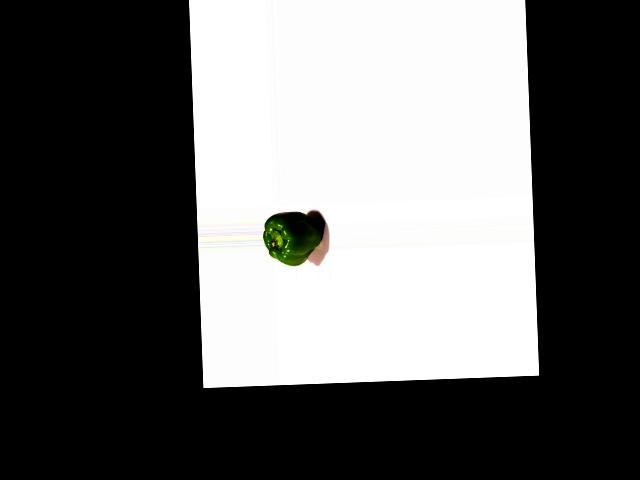bell_pepper: (262, 209, 325, 269)
